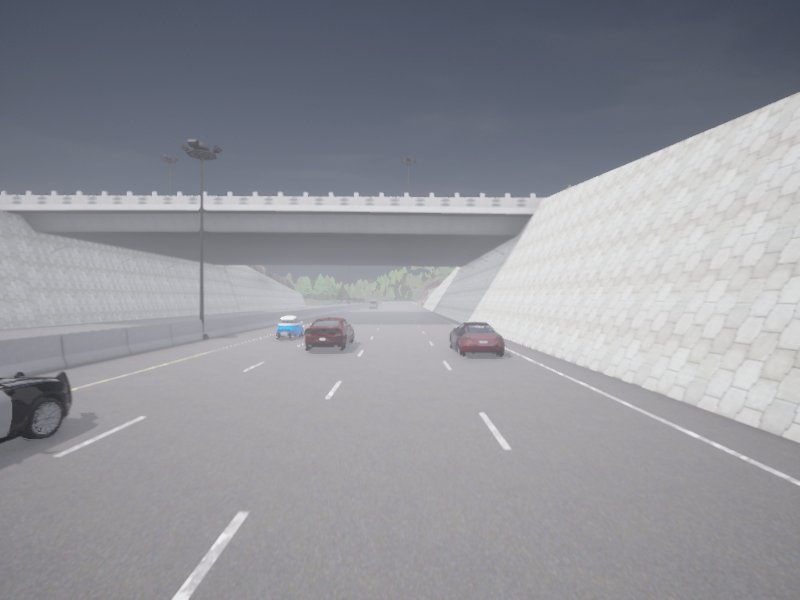vehicle: (0, 372, 71, 443), (449, 322, 504, 355), (305, 317, 353, 349), (277, 316, 302, 338), (370, 299, 378, 308)
